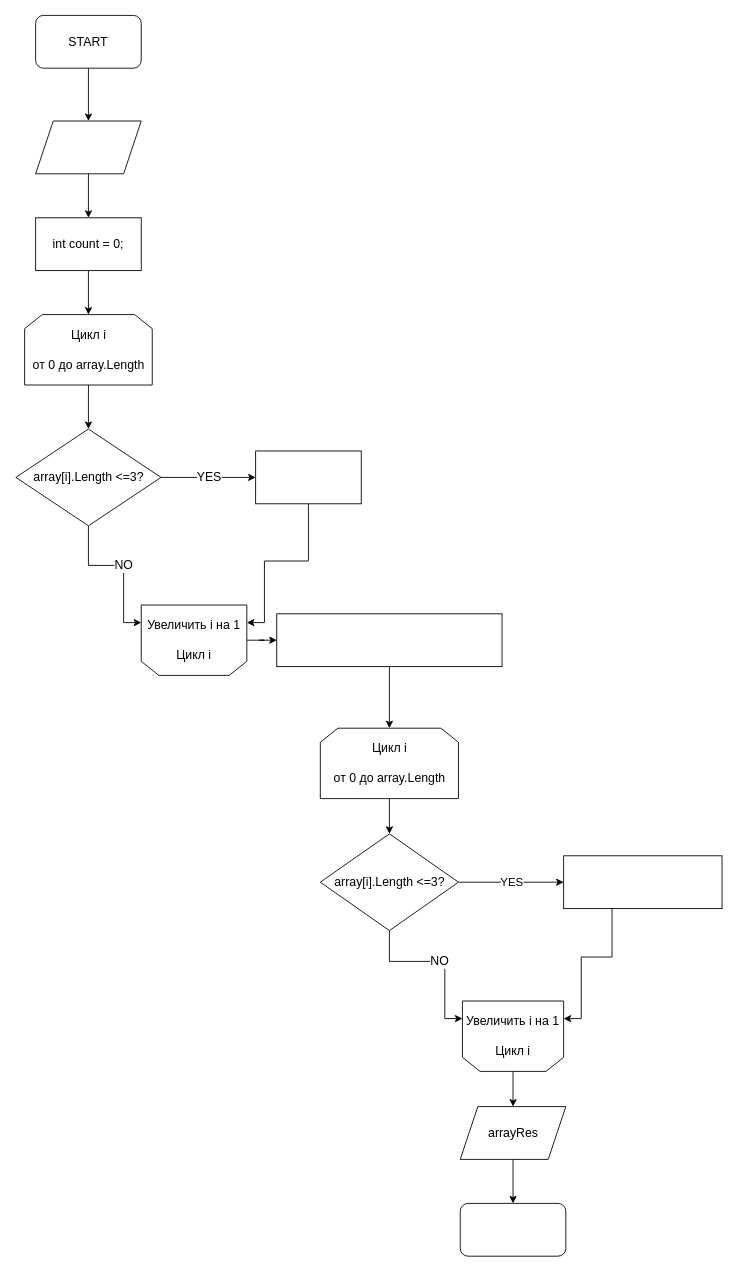
Some shapes in this 737 by 1272 pixel diagram are drawn without their labels. The shapes that lost their labels are listed below. From the top down, each one's centre as x and y in pixels, then its label:
At (x=88, y=147): "string[] array".
At (x=308, y=477): "count++;".
At (x=389, y=640): "string[] arrayRes = new string[count]; int index = 0;".
At (x=642, y=882): "arrayRes[index]=array[i]; index++;".
At (x=512, y=1229): "END".
